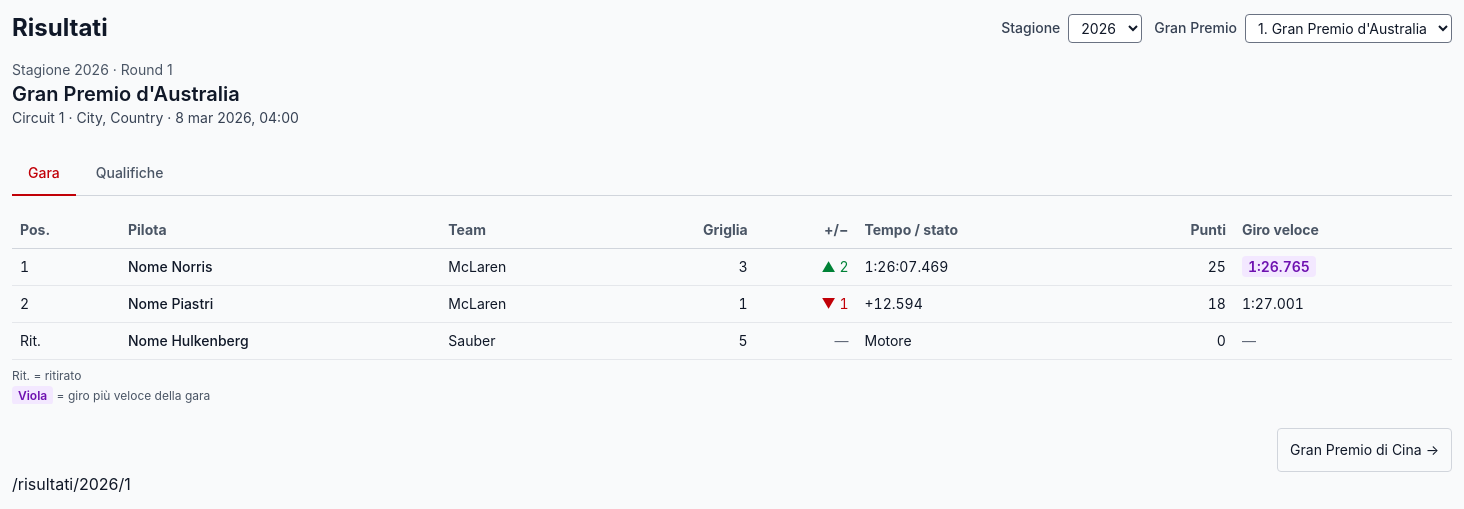
Test: ResultsPage › offers the sprint tab only for sprint weekends
This screenshot has width=1464, height=509.
Expected: the text "Nome Norris" is shown, [120,248,440,286]
Expected: the tab "Sprint" is not shown
Click the link named "GP successivo" at (1365, 450), box [1277,428,1452,472]
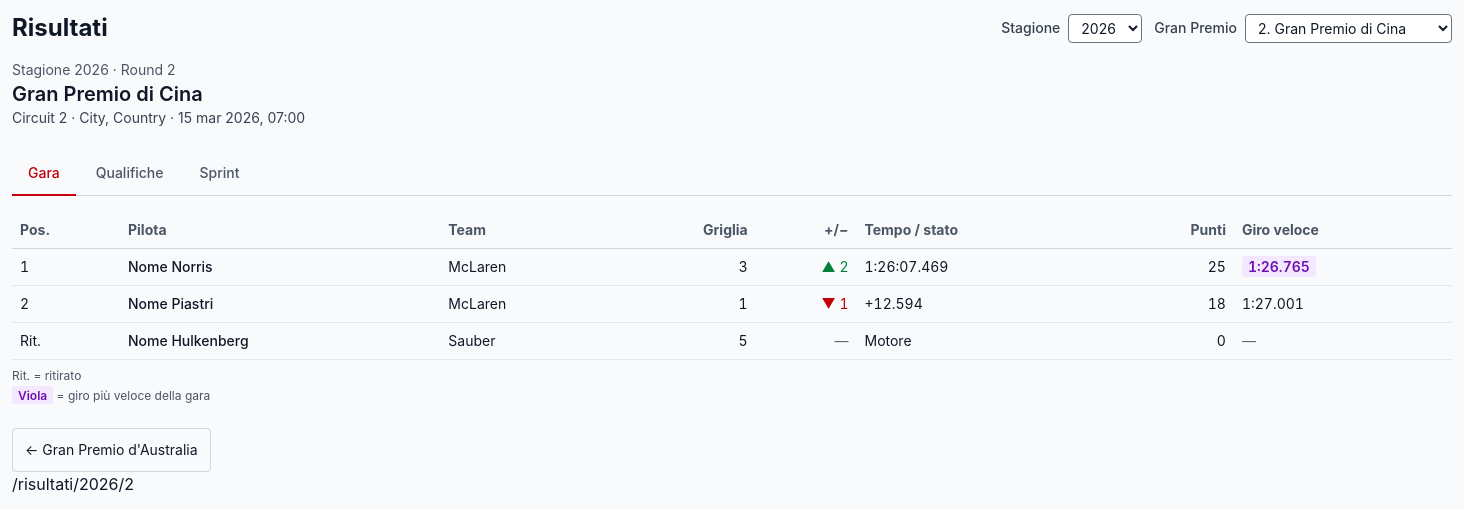
Click the tab "Sprint" at (219, 174), box [184,152,255,196]
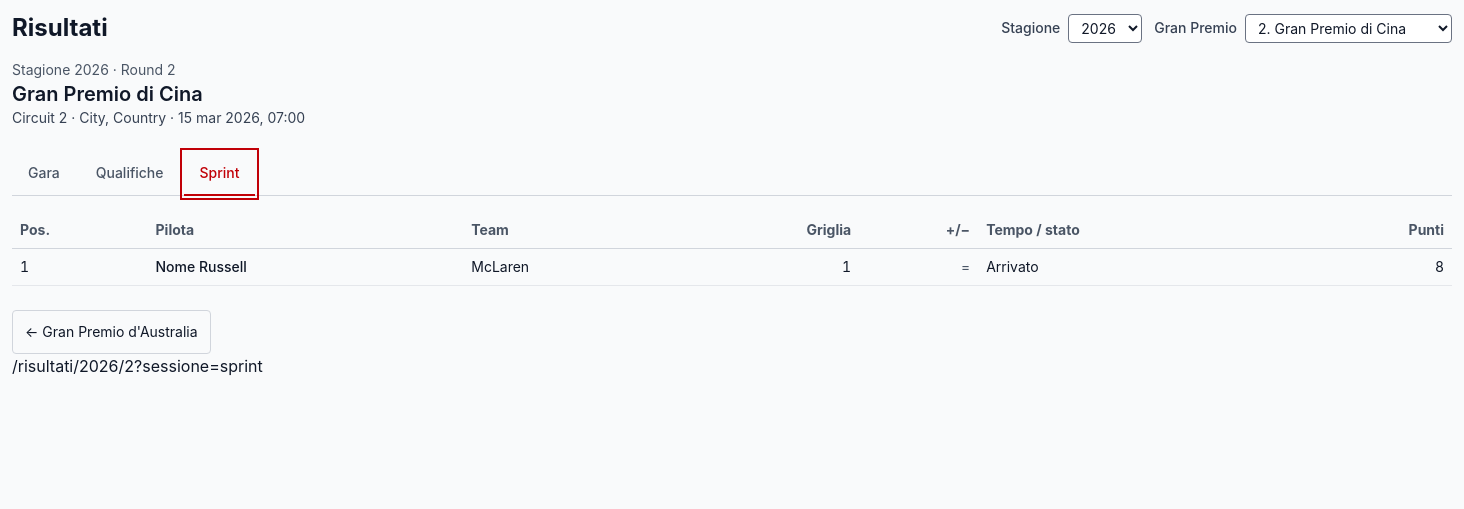
Expected: the text "Nome Russell" is shown, [148,248,463,286]
Expected: the text with test id "location" reads "/risultati/2026/2?sessione=sprint", [12,356,263,376]
